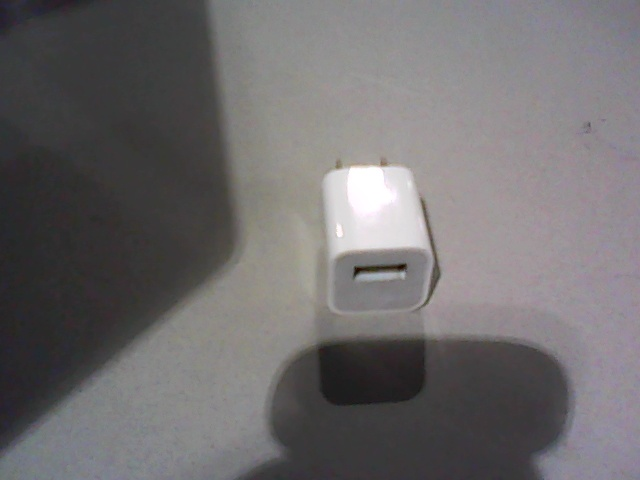charger: (323, 158, 435, 317)
